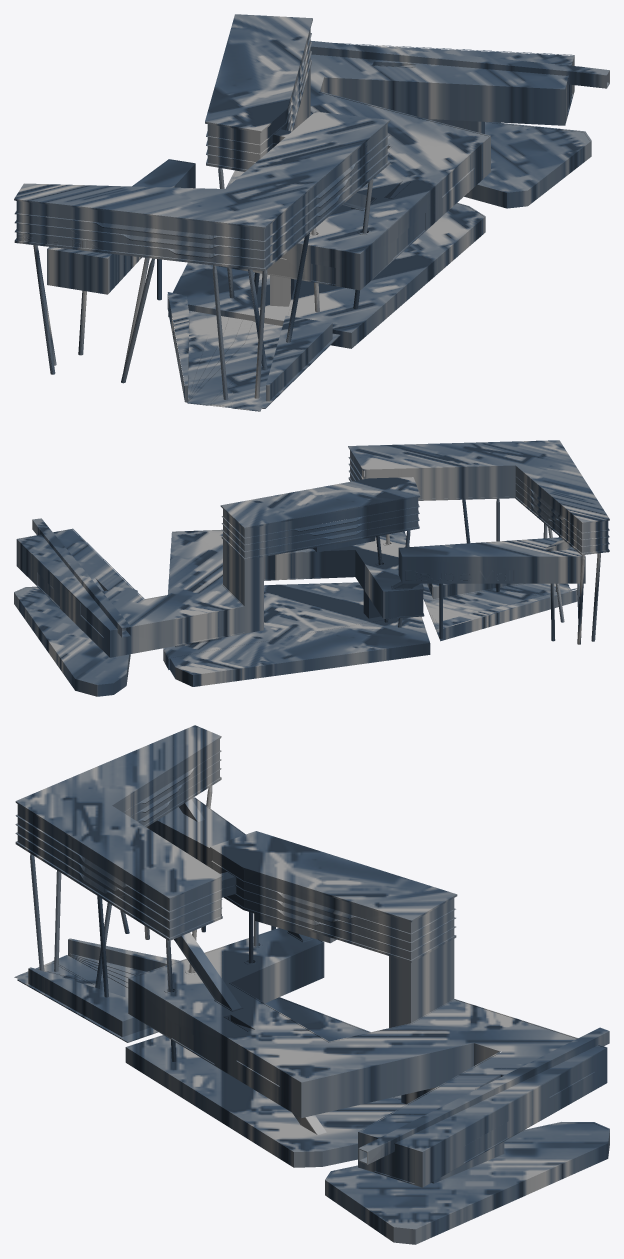
The model's file is Landmarks_ac_eden_village_bauble_mall.glb.
3 views of the same model, one above another, from view 1: azimuth 30°, elevation 25°; view 2: azimuth 150°, elevation 25°; view 3: azimuth 270°, elevation 25° (orthographic). The views are drawn at different scales.
Parts seen in each view (by area): view 1: world; view 2: world; view 3: world.
Boxes of the visible parts, x1,y1,x2,y2 form: world: [14, 14, 609, 411]; world: [14, 440, 609, 696]; world: [14, 725, 609, 1244].
Size of the model in its own units: 42899 by 11860 by 33082.
Materials: 1 (1 with a texture image).
